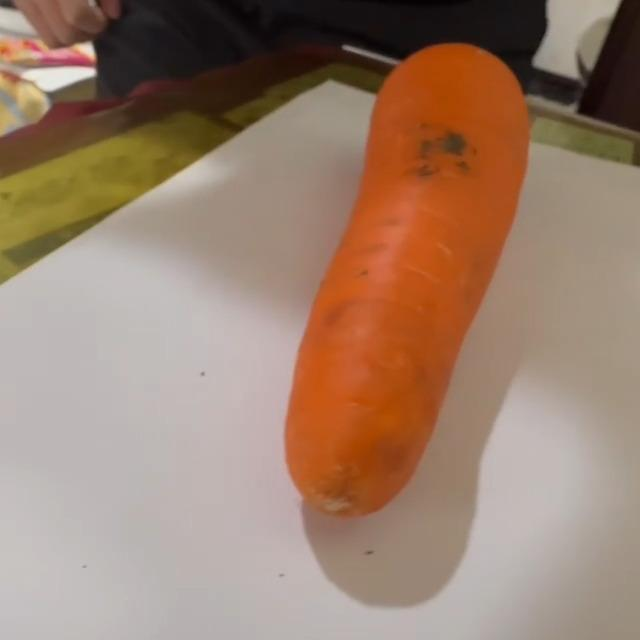carrot: (286, 40, 535, 521)
